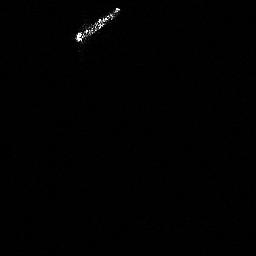ship: (74, 5, 121, 43)
